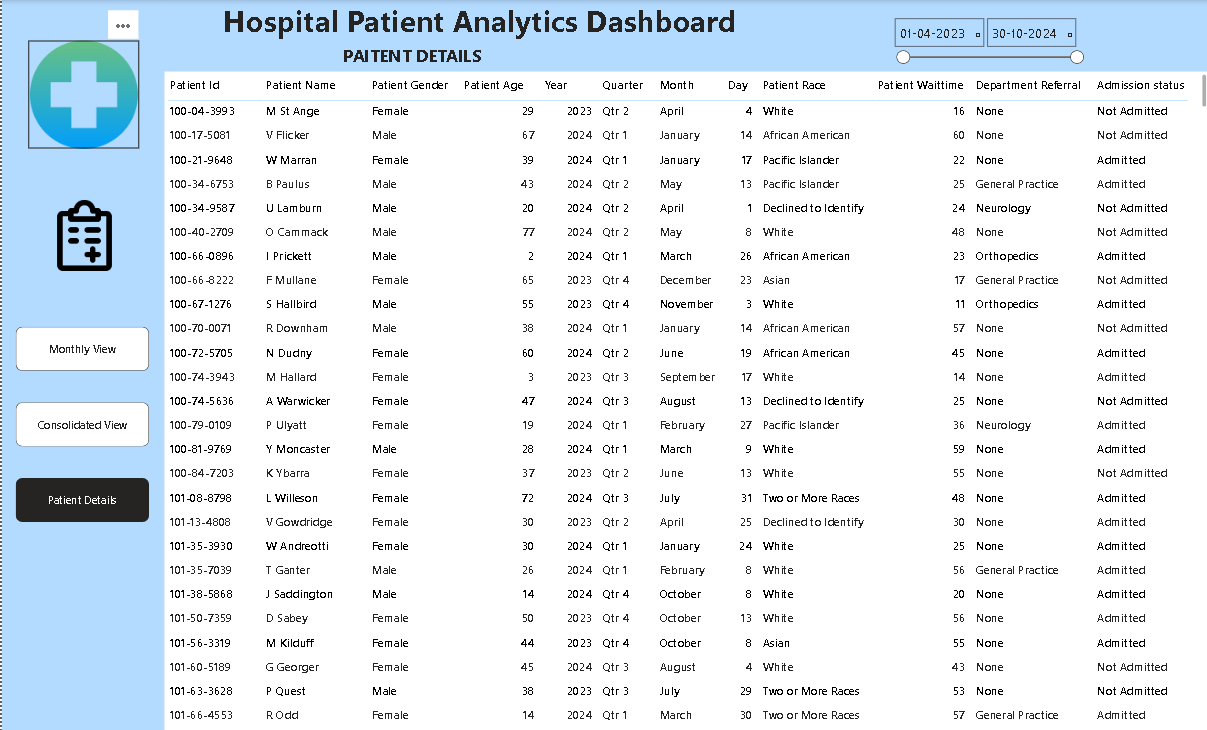

What the dashboard file says about the page in this screenshot:
{"tool":"powerbi","page":{"name":"Patient Details","canvas":[2300,1400],"ordinal":2},"visuals":[{"type":"shape","box":[0,0,310,1400],"z":0},{"type":"shape","box":[309.6,0,1990.7,140],"z":1000},{"type":"textbox","box":[309.6,0,1990.7,140.3],"z":2000},{"type":"textbox","box":[586,84,390,56],"z":3000},{"type":"slicer","fields":{"Values":["Data Table.Date"]},"box":[1687,30.4,380.4,110.9],"z":4000},{"type":"image","box":[50,80,212,206],"z":5000},{"type":"tableEx","fields":{"Values":["Hospital ER_Data.Patient Id","Hospital ER_Data.Full Name Patient","Hospital ER_Data.Patient Gender","Sum(Hospital ER_Data.Patient Age)","Hospital ER_Data.Patient Admission Date.Variation.Date Hierarchy.Year","Hospital ER_Data.Patient Admission Date.Variation.Date Hierarchy.Quarter","Hospital ER_Data.Patient Admission Date.Variation.Date Hierarchy.Month","Hospital ER_Data.Patient Admission Date.Variation.Date Hierarchy.Day","Hospital ER_Data.Patient Race","Sum(Hospital ER_Data.Patient Waittime)","Hospital ER_Data.Department Referral","Hospital ER_Data.Admission status"]},"box":[310,140,1990,1260],"z":6000},{"type":"image","box":[56.5,369.6,200,166.7],"z":7000},{"type":"pageNavigator","box":[26.1,626.1,254.3,373.9],"z":7001}]}

Visuals, with their boxes on the page's 2300x1400 design canvas (x1, y1, x2, y2). These are canvas units, not pixel positions in the 1207x730 screenshot, which may show the page scaled, cropped or inside an application window:
shape: Rect(0, 0, 310, 1400)
shape: Rect(310, 0, 2300, 140)
textbox: Rect(310, 0, 2300, 140)
textbox: Rect(586, 84, 976, 140)
slicer - Data Table.Date: Rect(1687, 30, 2067, 141)
image: Rect(50, 80, 262, 286)
tableEx - Hospital ER_Data.Patient Id x Hospital ER_Data.Full Name Patient: Rect(310, 140, 2300, 1400)
image: Rect(56, 370, 256, 536)
pageNavigator: Rect(26, 626, 280, 1000)
